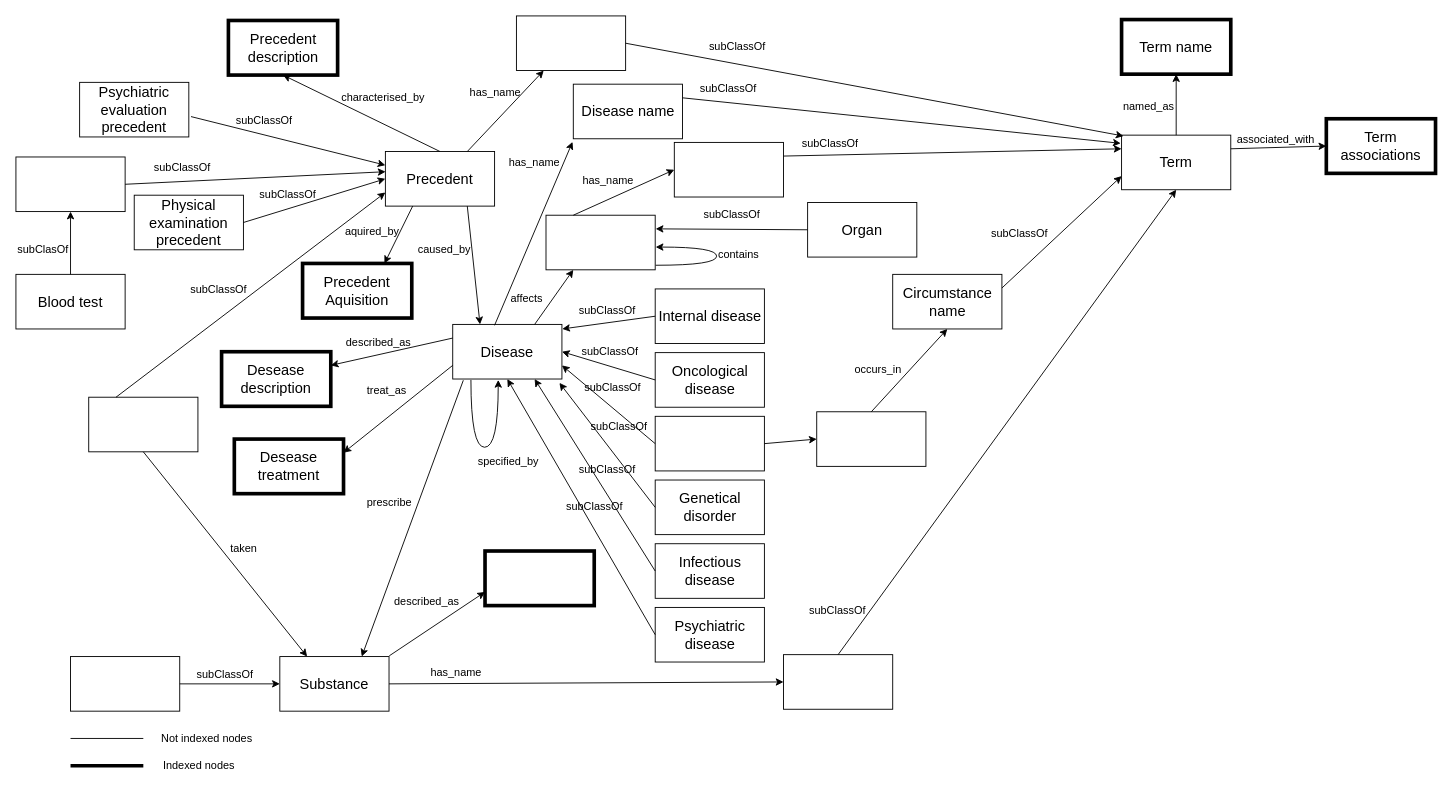
Some shapes in this 1453 by 791 pixel diagram are drawn without their labels. Here are the shapes that lost their labels. From the top down, the centre of each, then its label:
At point (571, 43): "Precedent name".
At point (70, 184): "Laboratory diagnostics precedent".
At point (728, 169): "Body part name".
At point (600, 242): "Body part".
At point (143, 424): "Substance intake".
At point (709, 443): "Trauma".
At point (871, 438): "Circumstance".
At point (539, 578): "Substance description".
At point (125, 683): "Medicine".
At point (838, 681): "Substance name".
